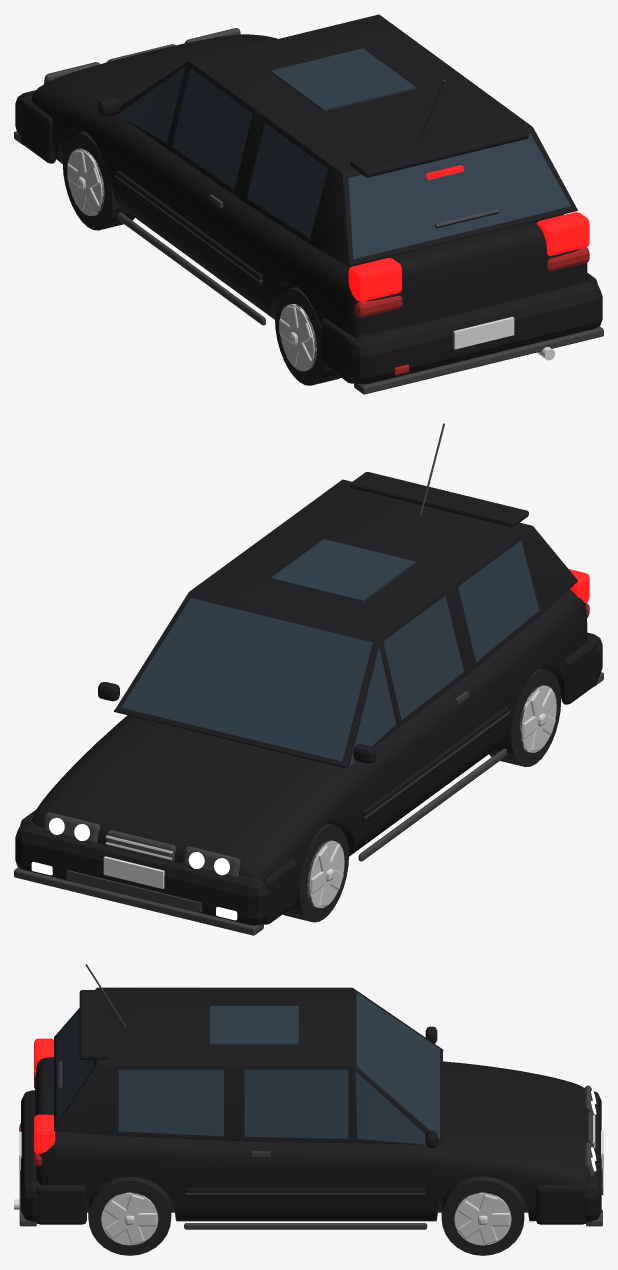
File: gol_gti.glb
The picture shows the model from 3 angles, top to bottom: view 1: azimuth 30°, elevation 25°; view 2: azimuth 150°, elevation 25°; view 3: azimuth 270°, elevation 25°; orthographic projection. The views are drawn at different scales.
Visible parts, largest first — view 1: Cabine, Carroceria, ParachoqueTraseiro, TetoSolar, Aerofolio, ParachoqueTraseiroLabio, WheelFL_Pneu, WheelBL_Pneu, Lanterna, FrisoProtecao, Lanterna.001, ParachoqueDianteiroLateral (+7 smaller); view 2: Cabine, Carroceria, ParachoqueDianteiro, TetoSolar, Aerofolio, ParachoqueDianteiroLabio, WheelBL_Pneu, WheelFL_Pneu, FrisoProtecao, ParachoqueTraseiroLateral, EntradaDeAr, Soleira (+7 smaller); view 3: Cabine, Carroceria, TetoSolar, WheelFR_Pneu, WheelBR_Pneu, FrisoProtecao.001, Aerofolio, ParachoqueTraseiroLateral.001, ParachoqueDianteiroLateral.001, ParachoqueTraseiro, Soleira.001, ParachoqueDianteiro (+5 smaller).
Boxes of the visible parts, bbox=[...] form: Cabine: bbox=[116, 14, 577, 266]; Carroceria: bbox=[31, 34, 587, 337]; ParachoqueTraseiro: bbox=[348, 280, 602, 384]; TetoSolar: bbox=[270, 48, 415, 111]; Aerofolio: bbox=[350, 122, 528, 177]; ParachoqueTraseiroLabio: bbox=[354, 326, 603, 394]; WheelFL_Pneu: bbox=[62, 131, 134, 230]; WheelBL_Pneu: bbox=[275, 287, 340, 385]; Lanterna: bbox=[348, 258, 401, 301]; FrisoProtecao: bbox=[116, 170, 262, 285]; Lanterna.001: bbox=[536, 212, 589, 255]; ParachoqueDianteiroLateral: bbox=[20, 98, 55, 163]; Cabine: bbox=[114, 479, 577, 769]; Carroceria: bbox=[31, 589, 587, 890]; ParachoqueDianteiro: bbox=[15, 821, 269, 925]; TetoSolar: bbox=[270, 539, 415, 602]; Aerofolio: bbox=[350, 472, 528, 526]; ParachoqueDianteiroLabio: bbox=[14, 867, 263, 935]; WheelBL_Pneu: bbox=[489, 668, 561, 767]; WheelFL_Pneu: bbox=[283, 823, 348, 922]; FrisoProtecao: bbox=[362, 706, 508, 821]; ParachoqueTraseiroLateral: bbox=[562, 639, 597, 704]; EntradaDeAr: bbox=[66, 870, 202, 912]; Soleira: bbox=[358, 748, 506, 861]; Cabine: bbox=[54, 987, 443, 1145]; Carroceria: bbox=[34, 1057, 590, 1221]; TetoSolar: bbox=[210, 1006, 298, 1044]; WheelFR_Pneu: bbox=[441, 1176, 524, 1255]; WheelBR_Pneu: bbox=[88, 1176, 171, 1255]; FrisoProtecao.001: bbox=[185, 1188, 425, 1197]; Aerofolio: bbox=[79, 990, 108, 1059]; ParachoqueTraseiroLateral.001: bbox=[36, 1185, 86, 1224]; ParachoqueDianteiroLateral.001: bbox=[536, 1185, 586, 1224]; ParachoqueTraseiro: bbox=[21, 1090, 40, 1221]; Soleira.001: bbox=[184, 1223, 427, 1229]; ParachoqueDianteiro: bbox=[581, 1091, 601, 1221].
Size of the model in its own units: 1.85 by 1.88 by 4.13.
